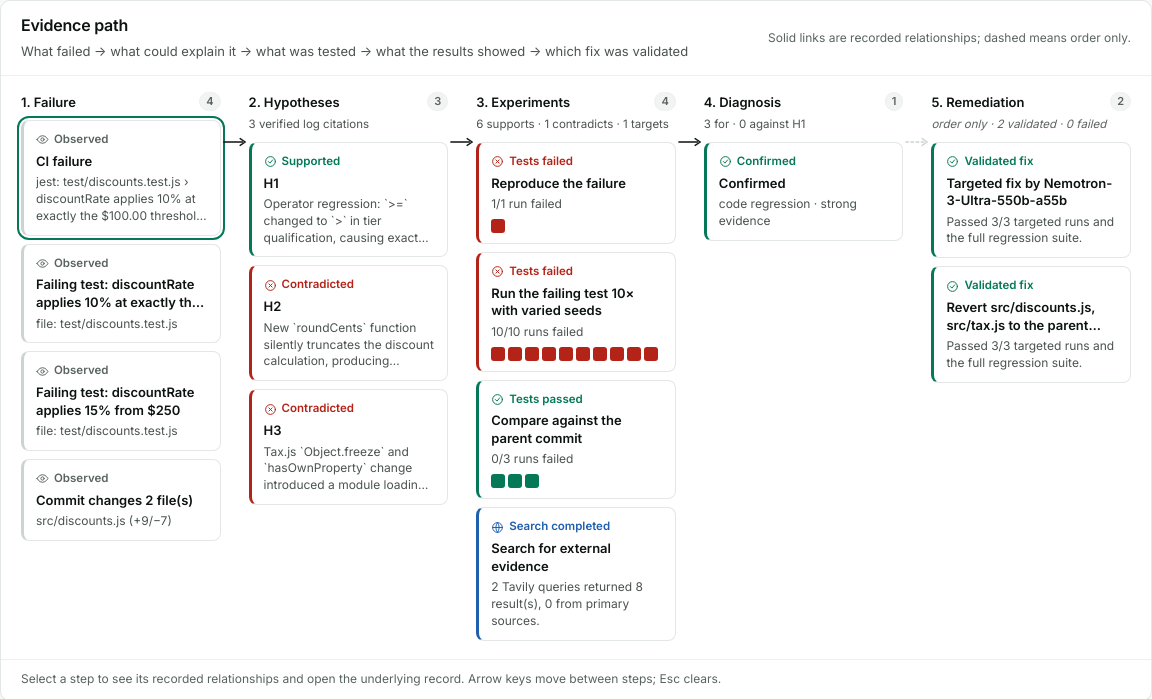
Test: Evidence Path › supports arrow-key movement and Escape
The width and height of the screenshot is (1152, 699).
Press ArrowRight in the button with aria-label "Failure: CI failure", box [21,120,221,236]
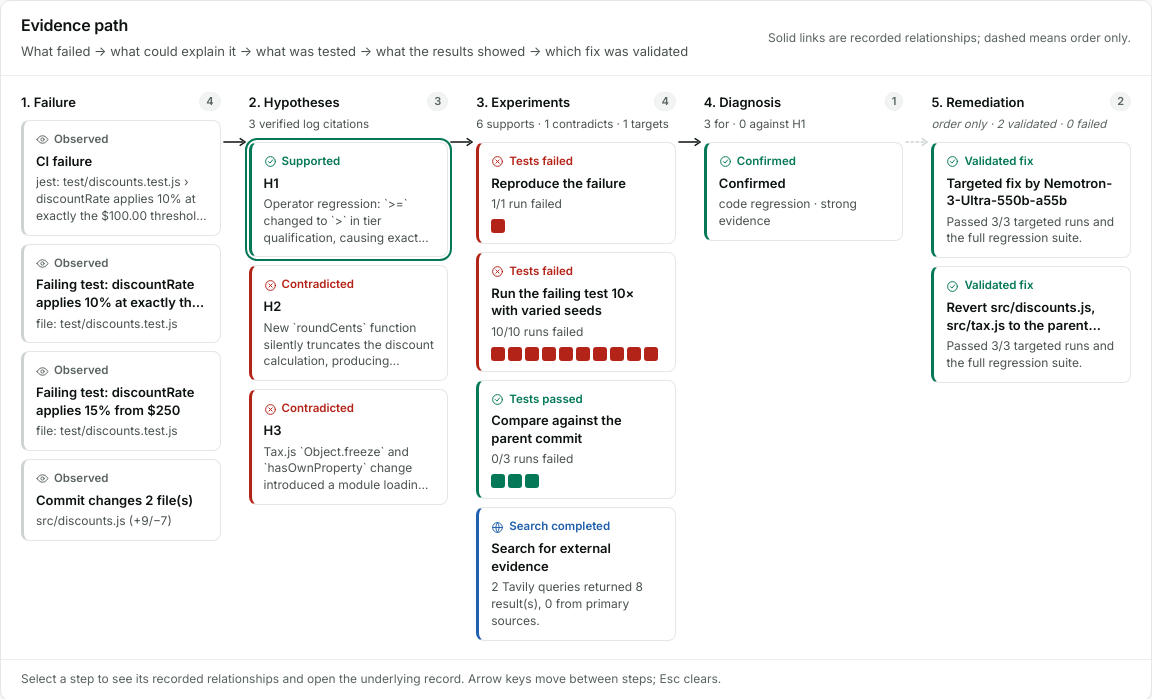
Click the button with aria-label "Hypotheses: H1. Supported. Operator regression: `>=` changed": [348, 200] box [249,142,448,258]
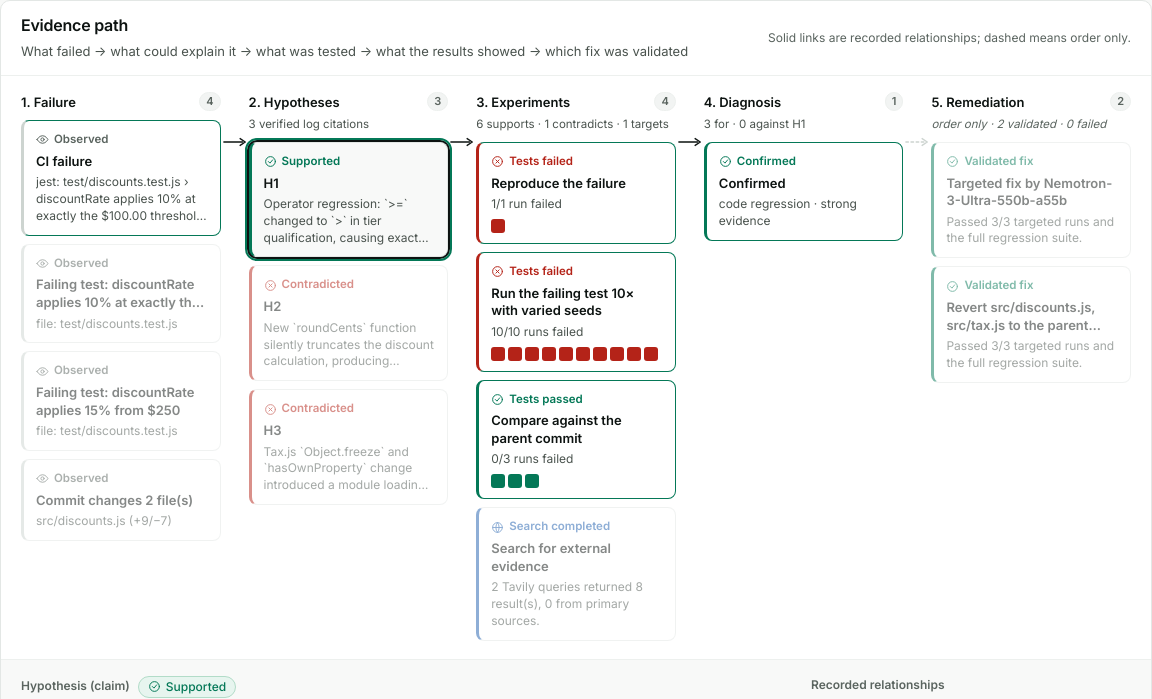
Press Escape in the button with aria-label "Hypotheses: H1. Supported. Operator regression: `>=` changed", box [249,142,448,258]
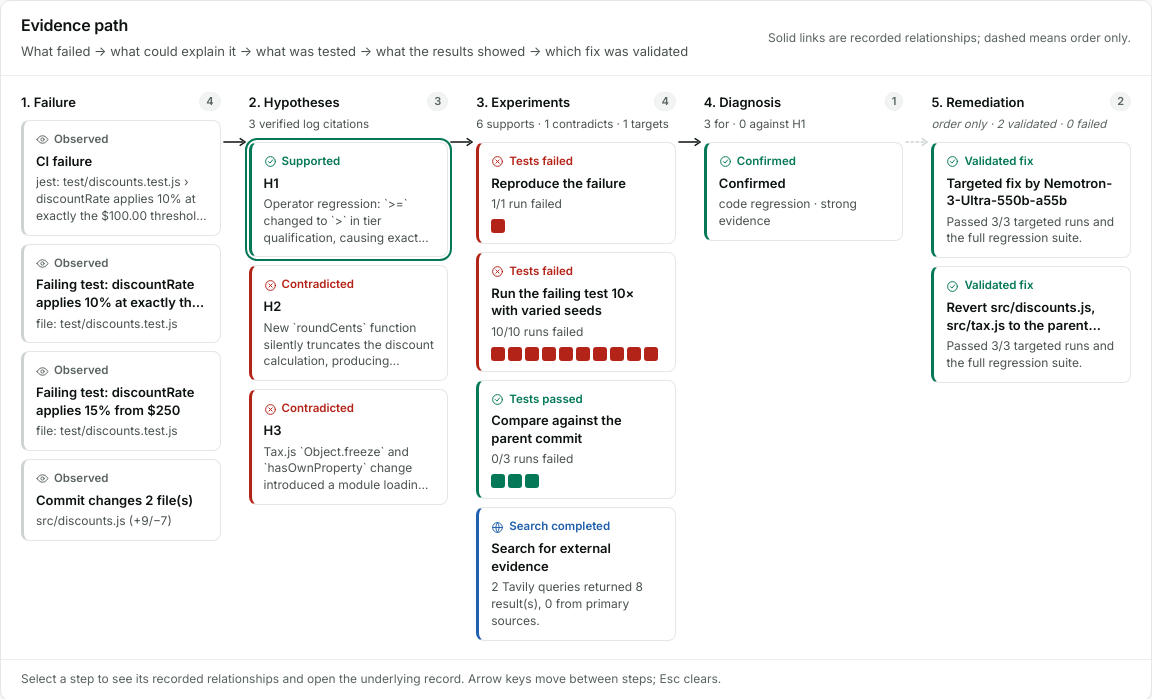
Check: no the button "CI failure" are shown
